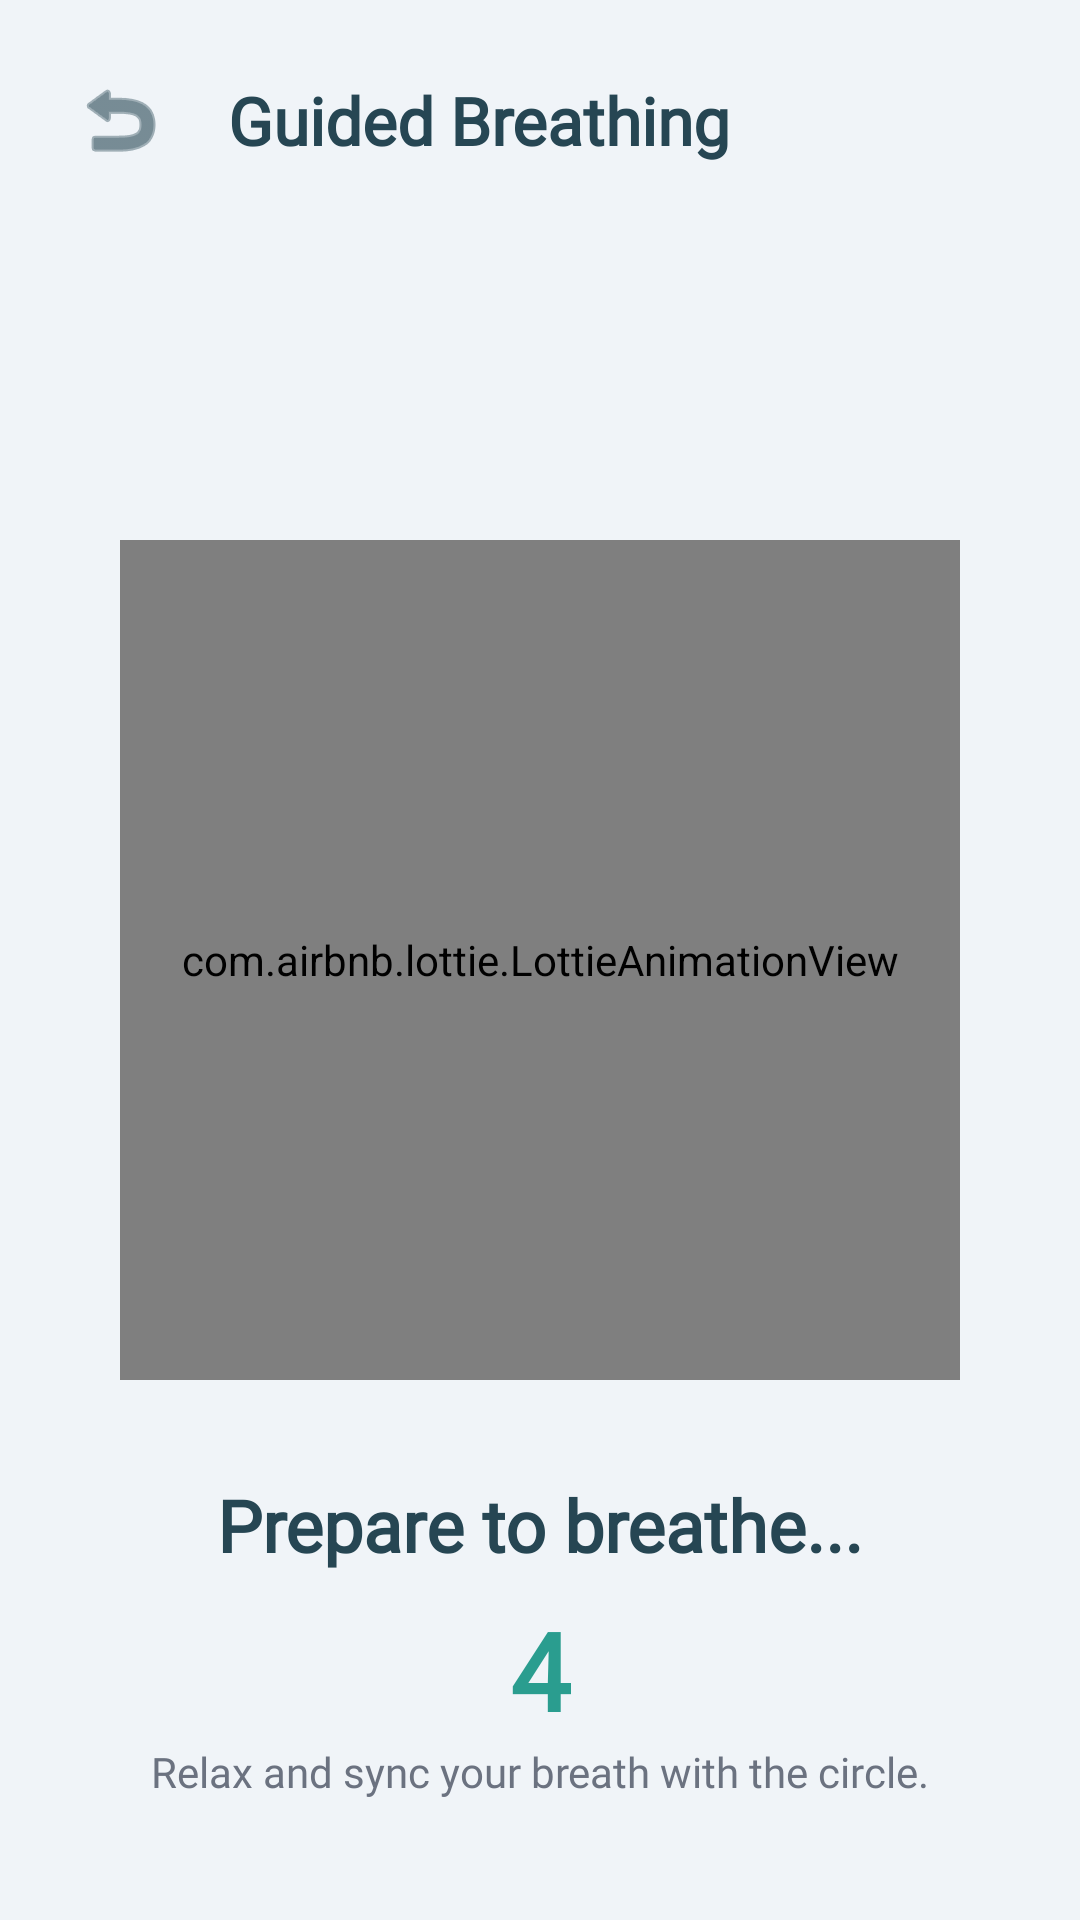

Icons on this 1080x1920 Android screen, each with the point to tap as point (x, y):
Go back: point (121, 120)
